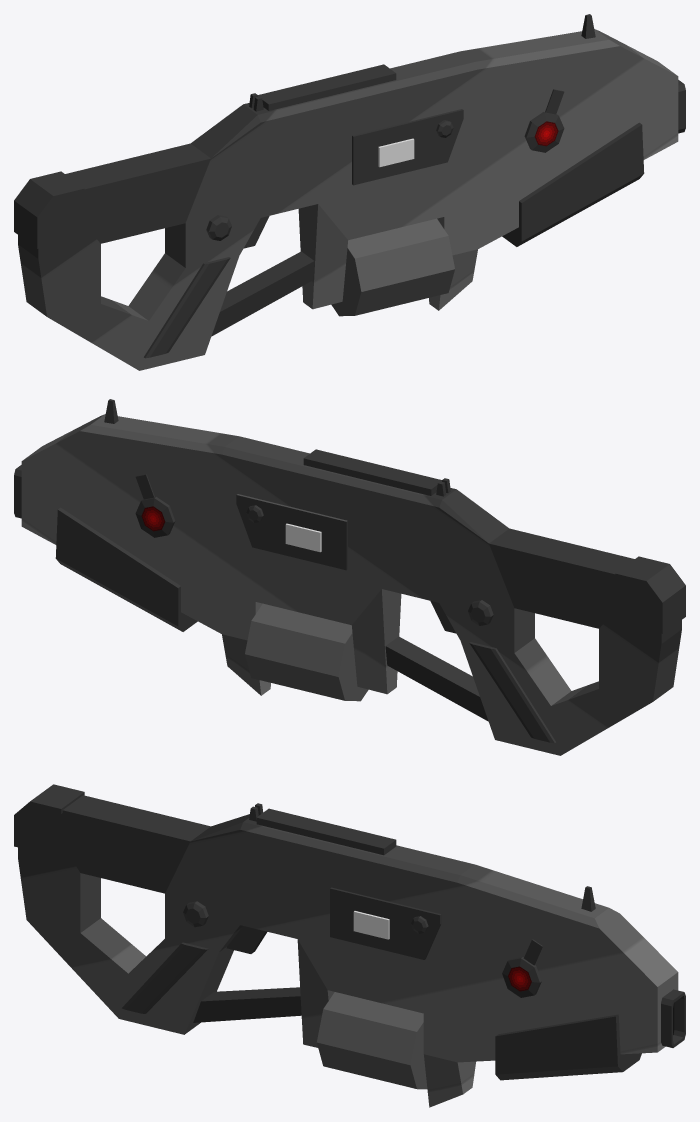
The model's file is Rifle_Pulse_B_V2.FBX.
3 renders of one model, top to bottom at view 1: azimuth 30°, elevation 25°; view 2: azimuth 150°, elevation 25°; view 3: azimuth 330°, elevation 25°, orthographic.
Visible parts, largest first — view 1: Rifle_Pulse_B_V2, Magazine; view 2: Rifle_Pulse_B_V2, Magazine; view 3: Rifle_Pulse_B_V2, Magazine.
Part boxes in pixels (x1,y1,x2,y2): Rifle_Pulse_B_V2: [14, 14, 685, 370]; Magazine: [331, 218, 454, 316]; Rifle_Pulse_B_V2: [14, 399, 685, 755]; Magazine: [245, 603, 368, 701]; Rifle_Pulse_B_V2: [14, 784, 685, 1107]; Magazine: [316, 992, 427, 1089].
Bounding box in the file's own units: 331 × 123 × 39.24.
